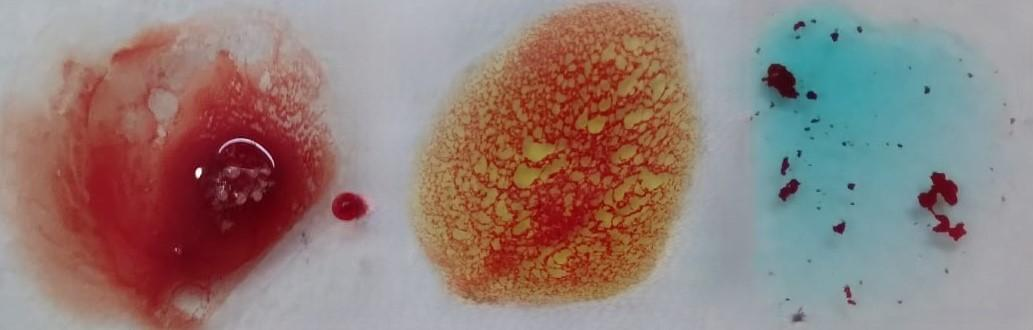A: (764, 13, 1010, 330)
B: (435, 5, 678, 316)
D: (59, 12, 318, 328)
